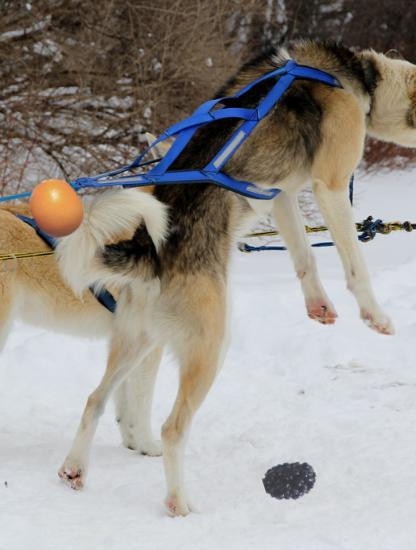Grapefruit: (26, 178, 87, 239)
Mulberry: (264, 454, 318, 508)
